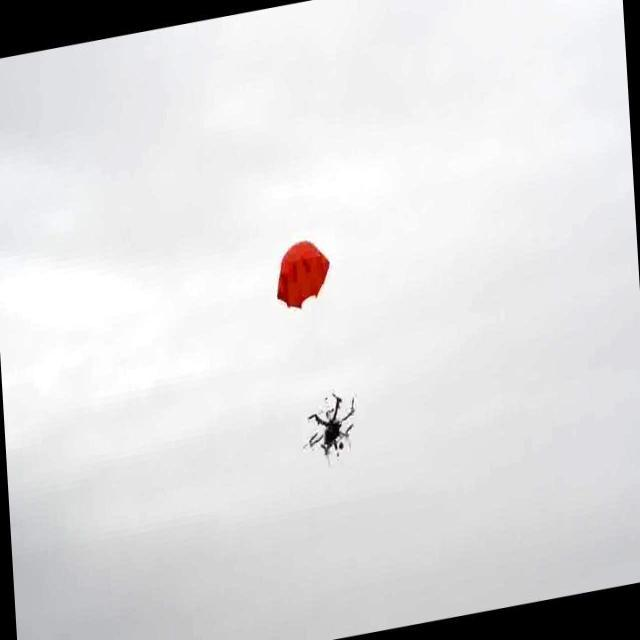drone: (302, 388, 360, 466)
